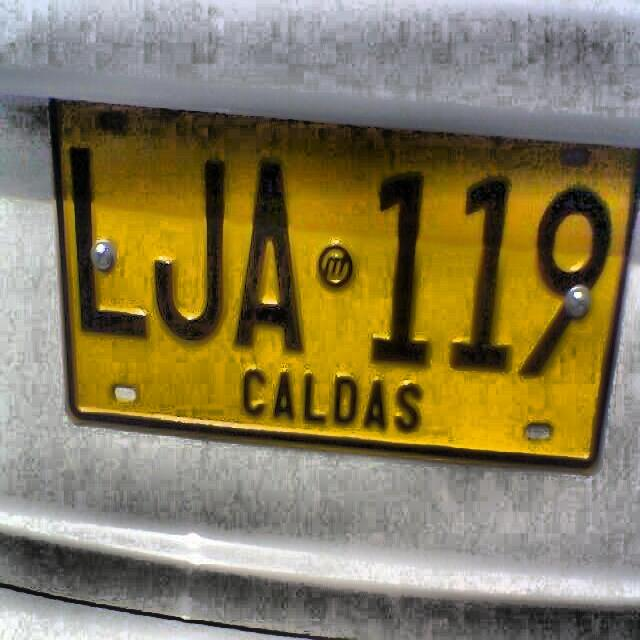plate: (51, 96, 639, 474)
